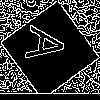A: (25, 25, 76, 66)
